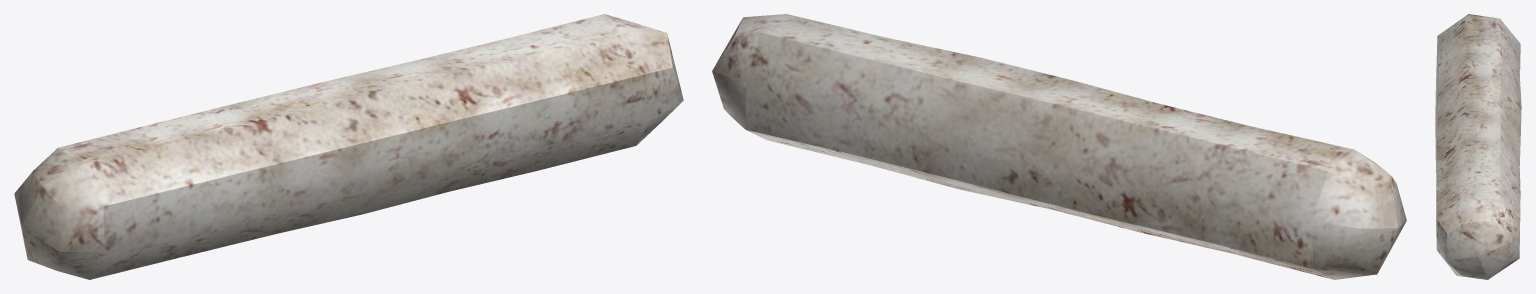
File: Salami_whole.fbx
3 renders of one model, left to right at view 1: azimuth 30°, elevation 25°; view 2: azimuth 150°, elevation 25°; view 3: azimuth 270°, elevation 25°, orthographic. The views are drawn at different scales.
Visible parts, largest first — view 1: Salami; view 2: Salami; view 3: Salami.
Boxes of the visible parts, box(x1,y1,x2,y2) form: Salami: box(14, 14, 683, 279); Salami: box(712, 14, 1406, 279); Salami: box(1435, 14, 1521, 279).
Size of the model in its own units: 0.4617 by 0.0768 by 0.0772.
